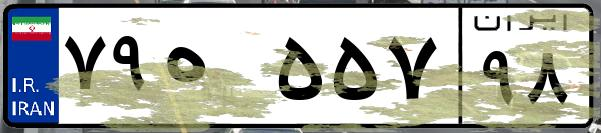5: (270, 28, 330, 110), (330, 28, 385, 110)
7: (385, 28, 445, 110), (57, 26, 110, 100)
8: (525, 38, 570, 115)
9: (475, 38, 525, 113), (110, 28, 158, 98)
ه: (158, 20, 270, 120)
